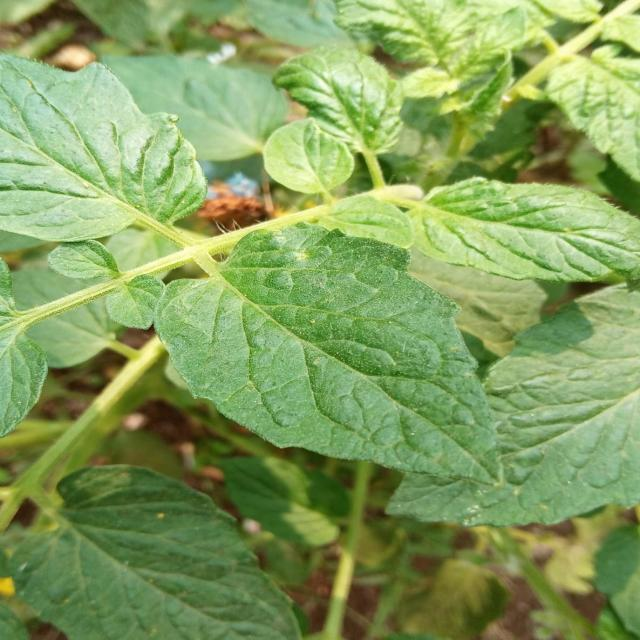Healthy: (135, 197, 542, 490), (389, 285, 639, 526), (9, 465, 300, 640), (0, 54, 205, 241), (403, 172, 640, 289)
